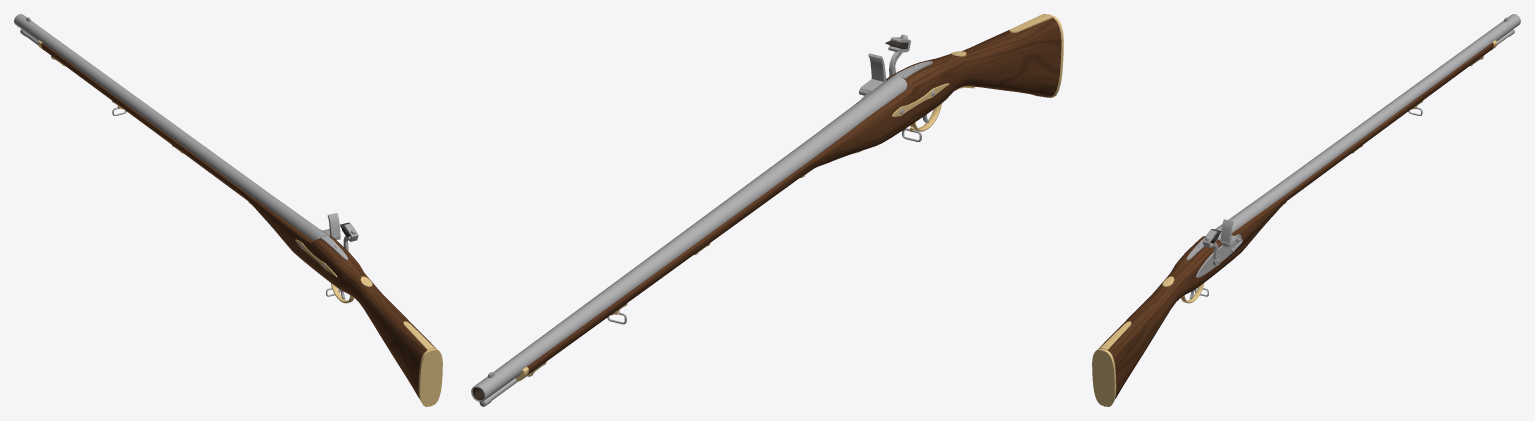
The model's file is musket.glb.
3 views of the same model, side by side, from view 1: azimuth 30°, elevation 25°; view 2: azimuth 150°, elevation 25°; view 3: azimuth 330°, elevation 25° (orthographic). The views are drawn at different scales.
Visible parts, largest first — view 1: Musket; view 2: Musket, Frizzen; view 3: Musket, Cock.
Boxes of the visible parts, x1=… form: Musket: x1=14, y1=14, x2=442, y2=406; Musket: x1=471, y1=14, x2=1063, y2=401; Frizzen: x1=859, y1=53, x2=886, y2=96; Musket: x1=1092, y1=14, x2=1520, y2=406; Cock: x1=1202, y1=229, x2=1222, y2=266.
Bounding box in the file's own units: 0.0687 × 0.2316 × 1.59.
Materials: 5 (1 with a texture image).
